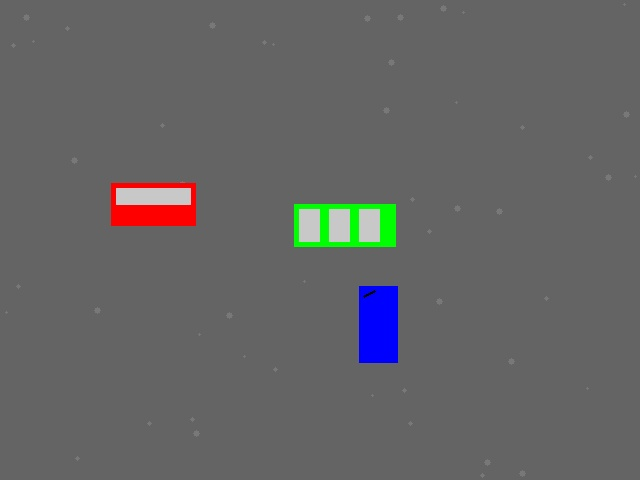bus: (294, 204, 395, 246)
car: (111, 183, 195, 225)
motorcycle: (359, 286, 397, 362)
